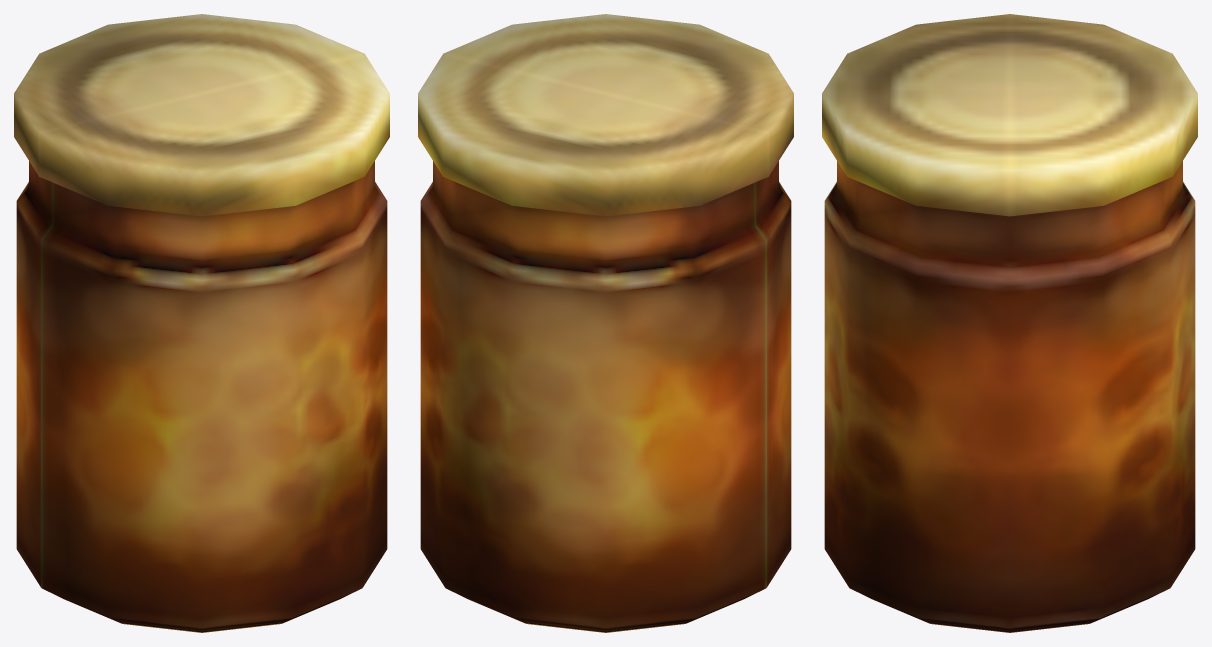
Rendered from SM_bank_00.gltf.
3 views of the same model, side by side, from view 1: azimuth 30°, elevation 25°; view 2: azimuth 150°, elevation 25°; view 3: azimuth 270°, elevation 25° (orthographic).
Visible parts, largest first — view 1: SM_bank_00; view 2: SM_bank_00; view 3: SM_bank_00.
Part boxes in pixels (left/top/right/bottom): SM_bank_00: left=14, top=14, right=389, bottom=632; SM_bank_00: left=418, top=14, right=793, bottom=632; SM_bank_00: left=822, top=14, right=1197, bottom=632.
Size of the model in its own units: 0.1688 by 0.234 by 0.1688.
1 material, 1 textured.
